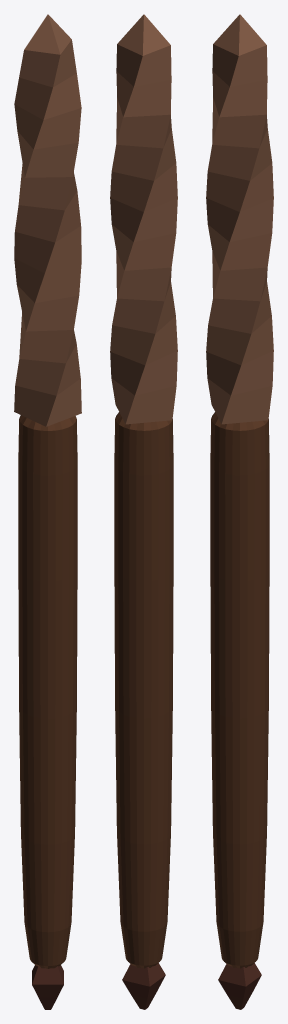
File: Wand 55.glb
3 renders of one model, left to right at view 1: azimuth 90°, elevation 25°; view 2: azimuth 150°, elevation 25°; view 3: azimuth 330°, elevation 25°, orthographic.
Visible parts, largest first — view 1: GeneratedWand; view 2: GeneratedWand; view 3: GeneratedWand.
Boxes of the visible parts, box(x1,y1,x2,y2) form: GeneratedWand: box(14, 14, 81, 1009); GeneratedWand: box(110, 14, 177, 1009); GeneratedWand: box(206, 14, 273, 1009).
Size of the model in its own units: 0.0311 by 0.5044 by 0.0311.
